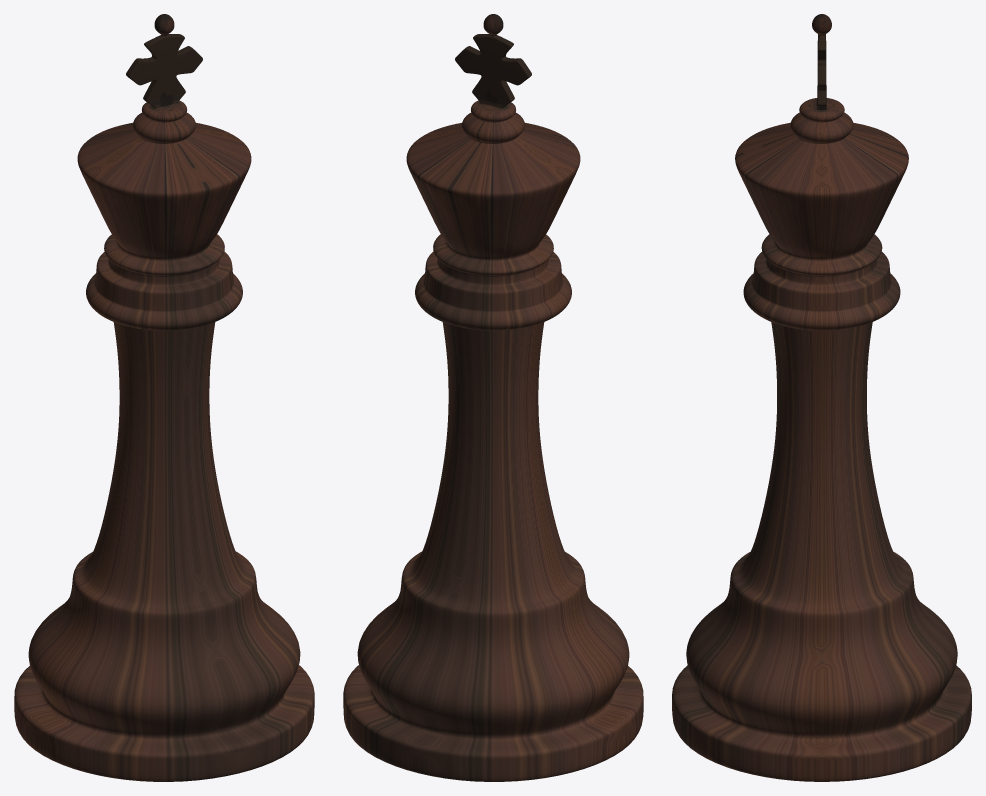
Rendered from king.glb.
3 views of the same model, side by side, from view 1: azimuth 30°, elevation 25°; view 2: azimuth 150°, elevation 25°; view 3: azimuth 270°, elevation 25° (orthographic).
Parts seen in each view (by area): view 1: Sphere.001_Material.001_0; view 2: Sphere.001_Material.001_0; view 3: Sphere.001_Material.001_0.
Boxes of the visible parts, left/top/right/bottom form: Sphere.001_Material.001_0: left=14, top=14, right=314, bottom=781; Sphere.001_Material.001_0: left=343, top=14, right=643, bottom=781; Sphere.001_Material.001_0: left=672, top=14, right=971, bottom=781.
Size of the model in its own units: 4.48 by 11.58 by 4.46.
1 material, 1 textured.
